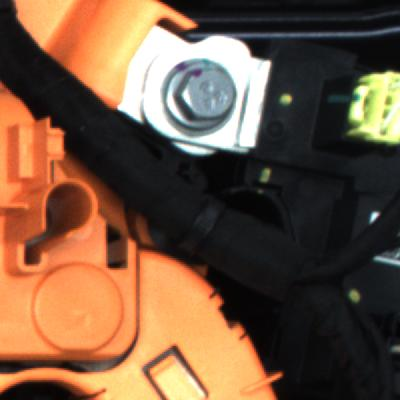nut_b: (163, 61, 252, 142)
